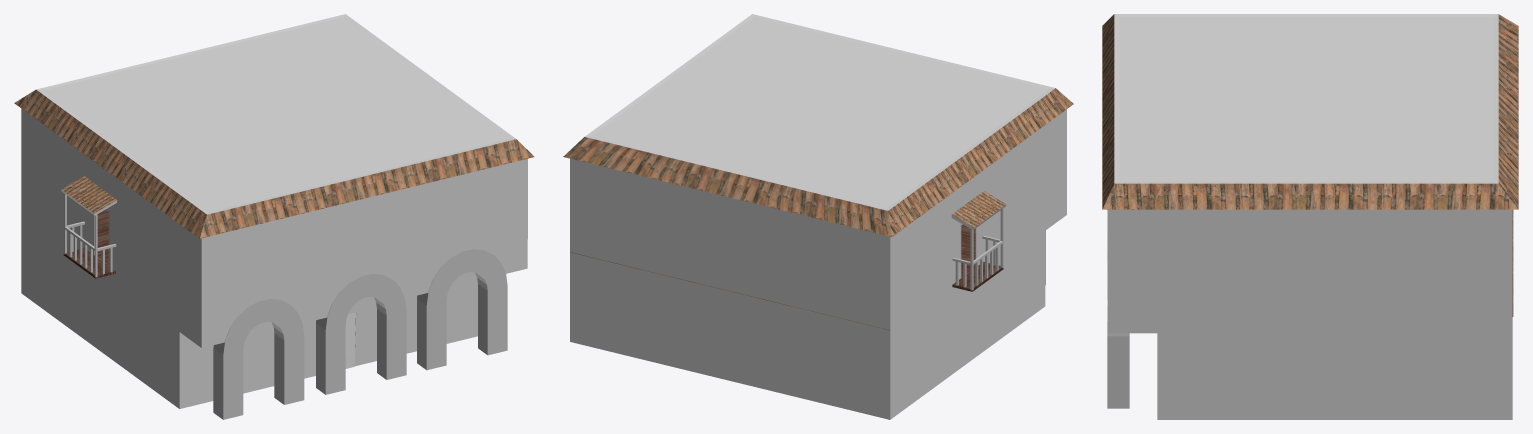
File: h_balc_int..fbx
3 views of the same model, side by side, from view 1: azimuth 30°, elevation 25°; view 2: azimuth 150°, elevation 25°; view 3: azimuth 270°, elevation 25° (orthographic). The views are drawn at different scales.
Visible parts, largest first — view 1: Cube; view 2: Cube; view 3: Cube.
Part boxes in pixels (left/top/right/bottom): Cube: left=14, top=14, right=534, bottom=419; Cube: left=563, top=14, right=1073, bottom=419; Cube: left=1102, top=14, right=1518, bottom=419.
Bounding box in the file's own units: 869 × 485 × 789.
